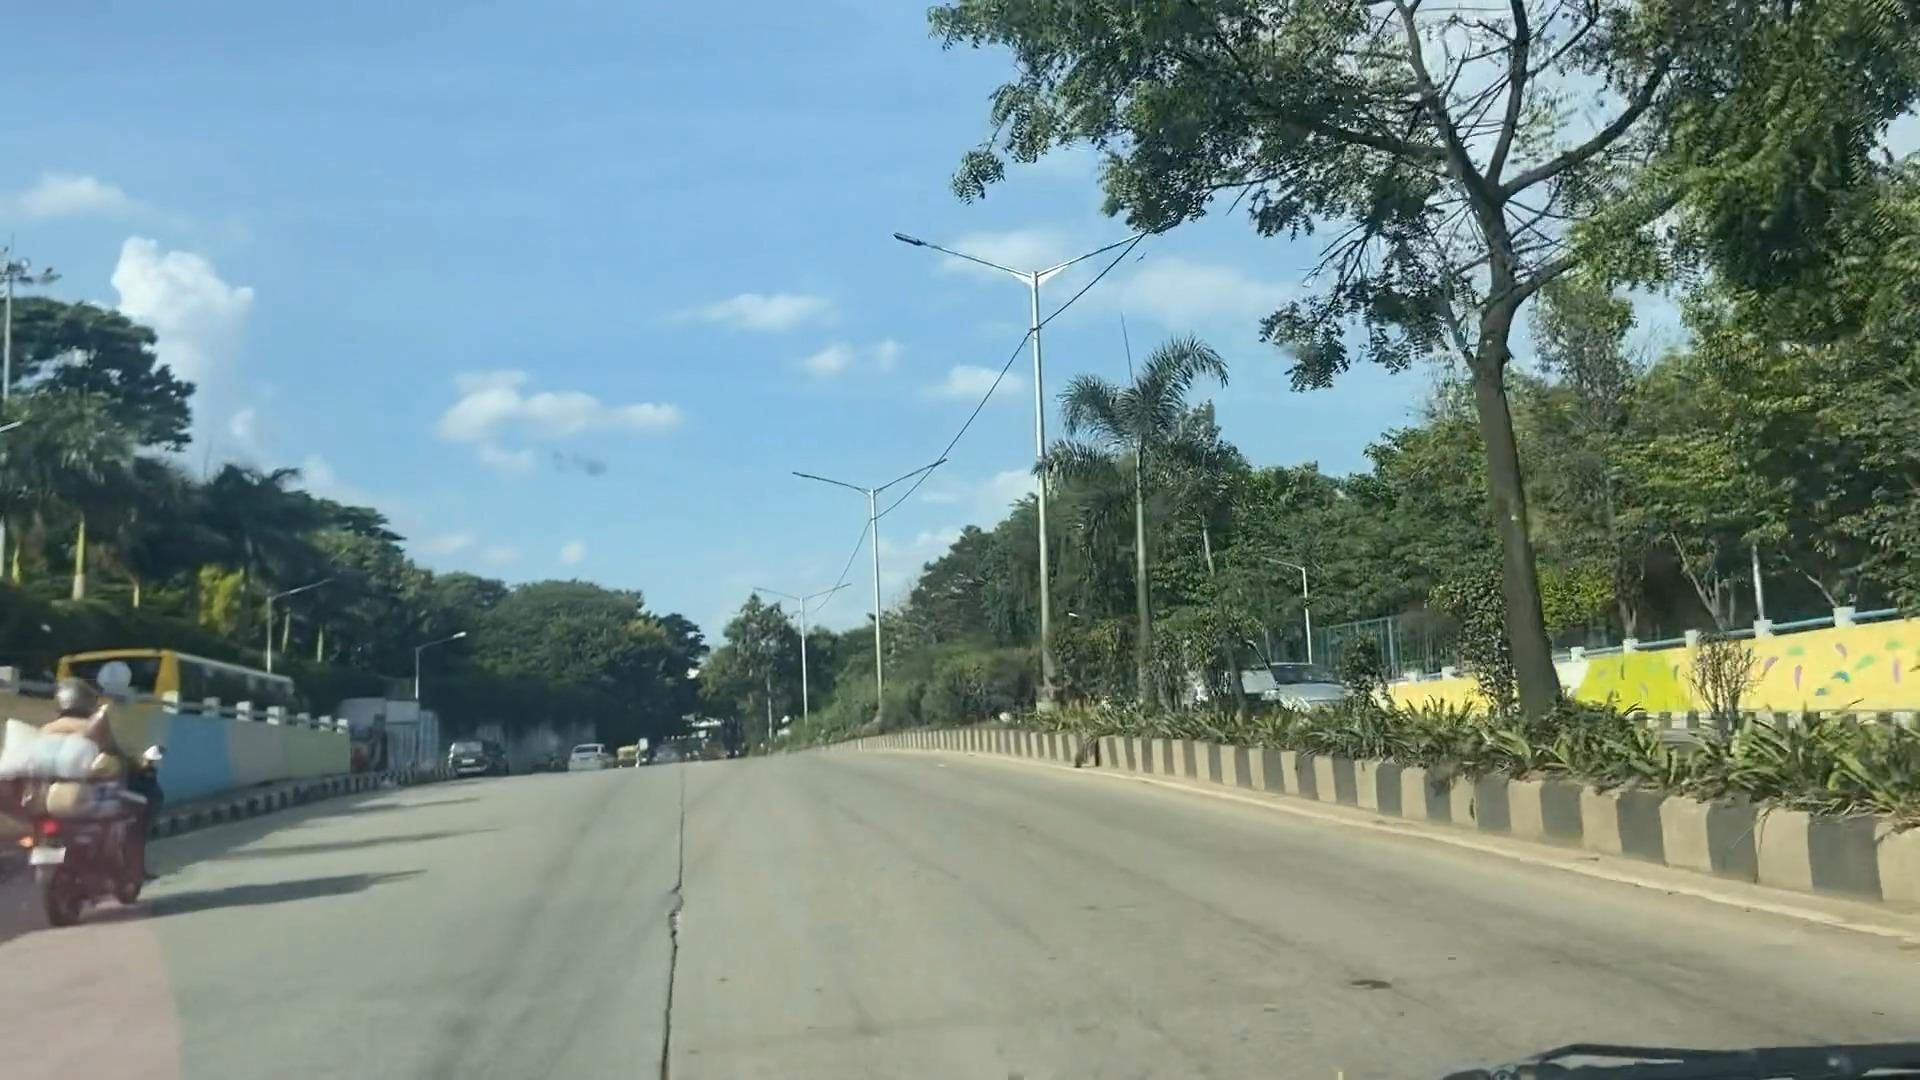LMV: (22, 690, 160, 902)
RoadDamages: (638, 764, 704, 1080)
